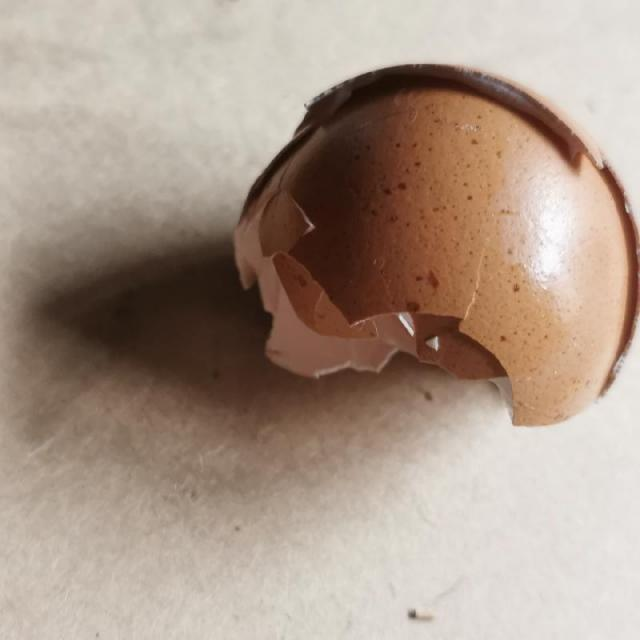egg shell: (227, 62, 639, 431)
